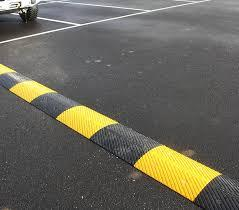Bump: (0, 59, 238, 209)
